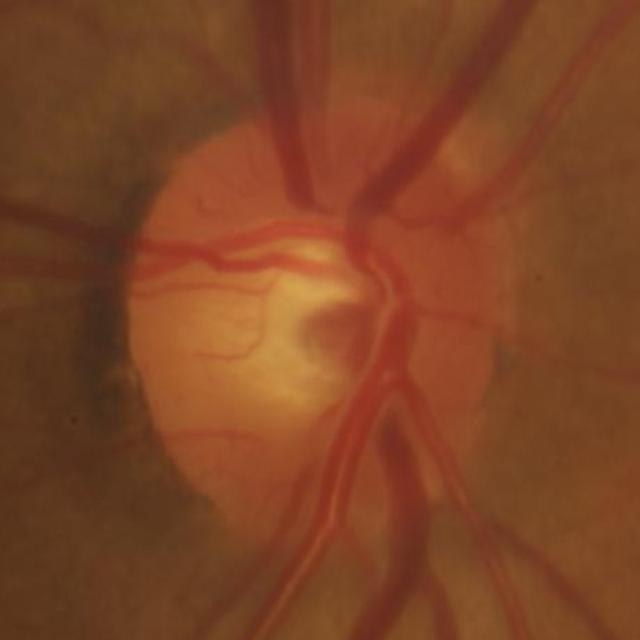OC: (192, 230, 395, 411)
OD: (125, 112, 512, 548)
